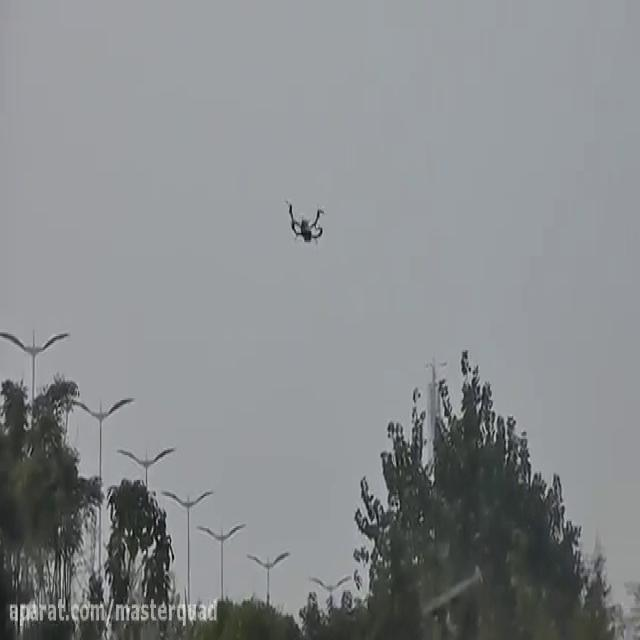drone: (281, 197, 327, 242)
